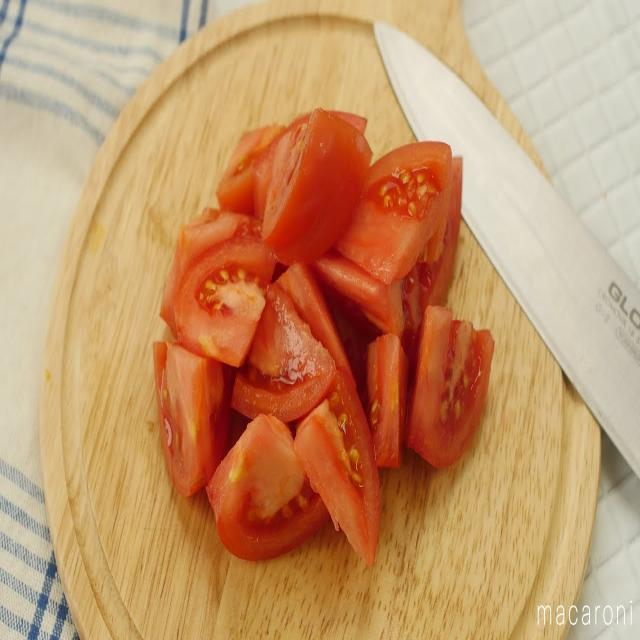Tomato: (290, 364, 386, 577), (160, 202, 280, 370), (203, 408, 325, 568), (256, 101, 371, 269), (336, 133, 458, 287), (404, 300, 503, 476), (230, 286, 344, 427), (143, 332, 224, 508), (406, 150, 468, 326), (356, 322, 410, 486), (215, 115, 293, 222)
